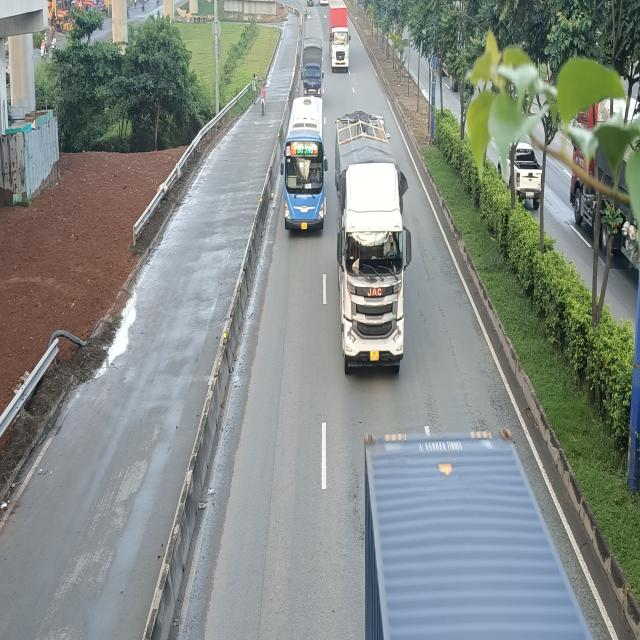coach: (280, 95, 327, 232)
container: (360, 436, 591, 640), (330, 4, 351, 72)
truck: (336, 106, 410, 369), (303, 32, 324, 98)
